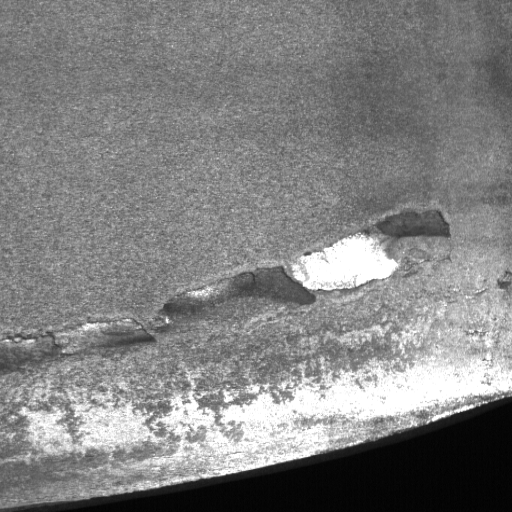qiaopi: (281, 207, 451, 294)
